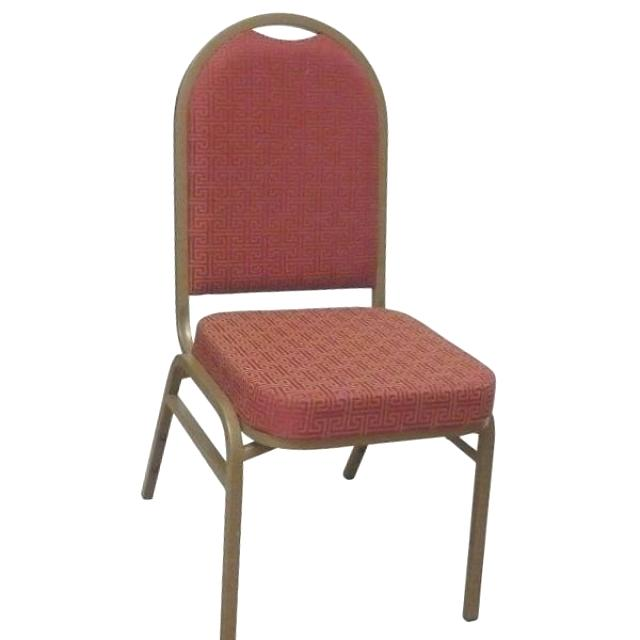Chair: (139, 11, 502, 640)
